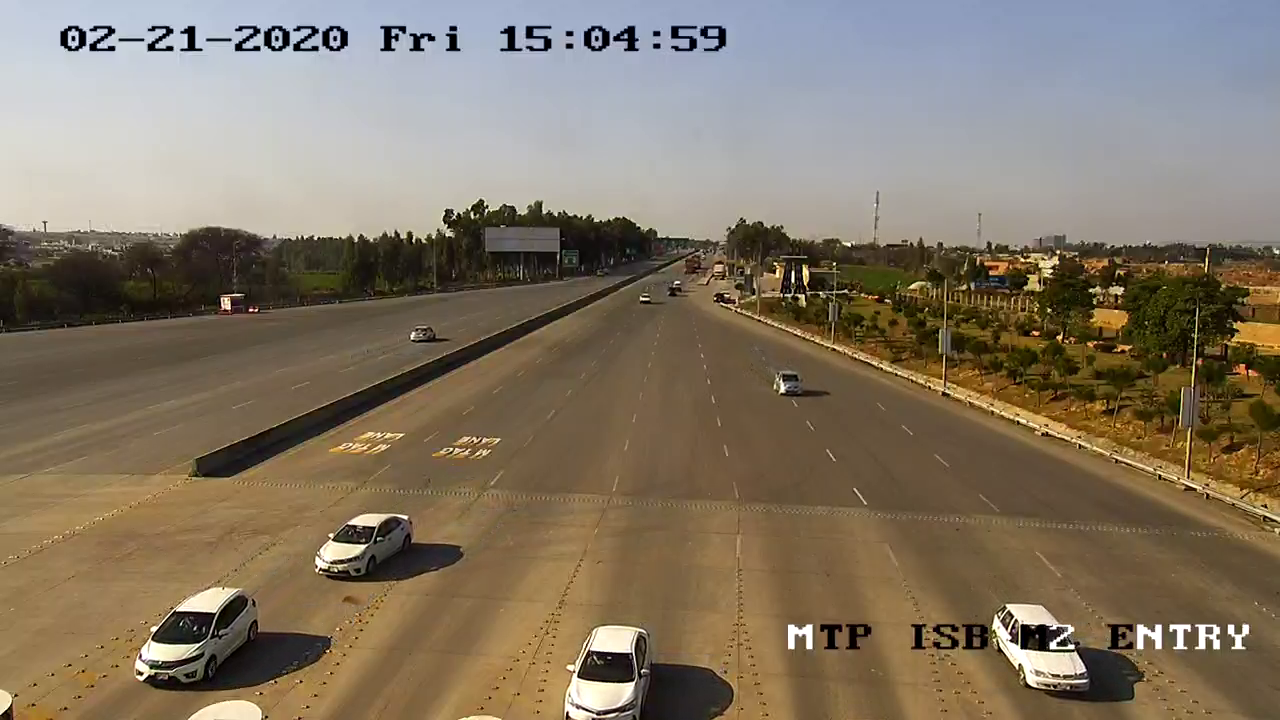f1: (122, 570, 272, 697), (299, 498, 422, 588), (557, 618, 663, 720), (765, 364, 811, 415)
